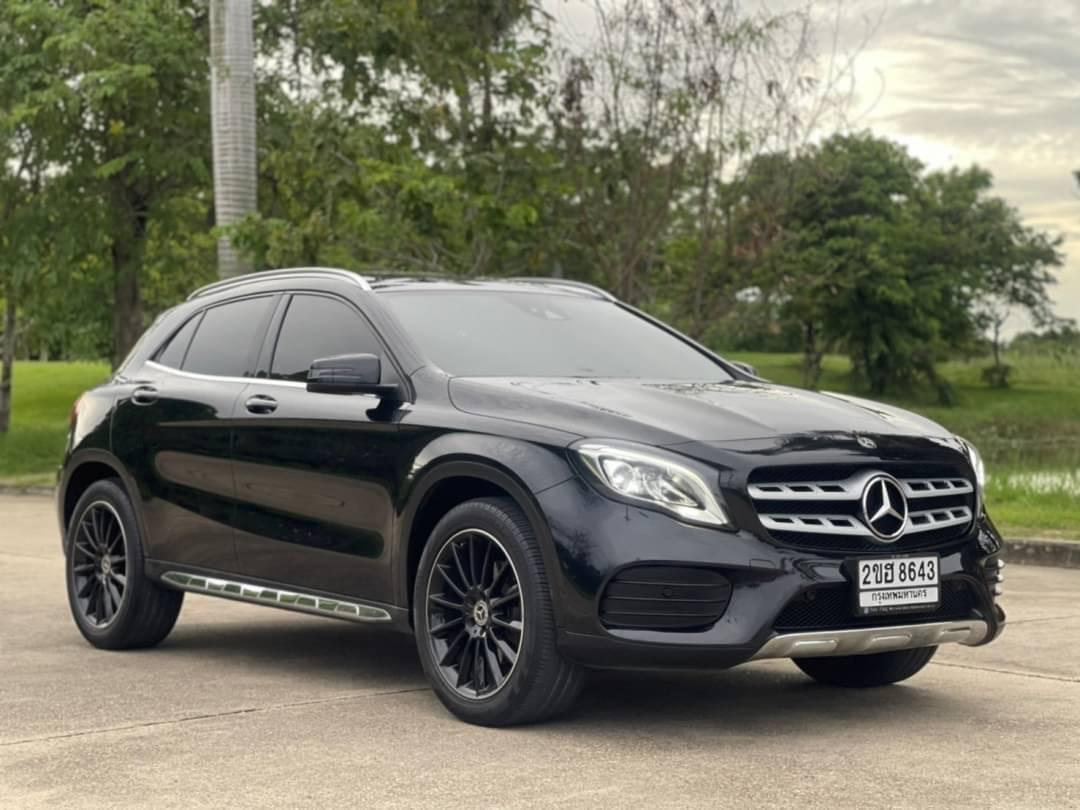license-plate: (847, 551, 944, 622)
